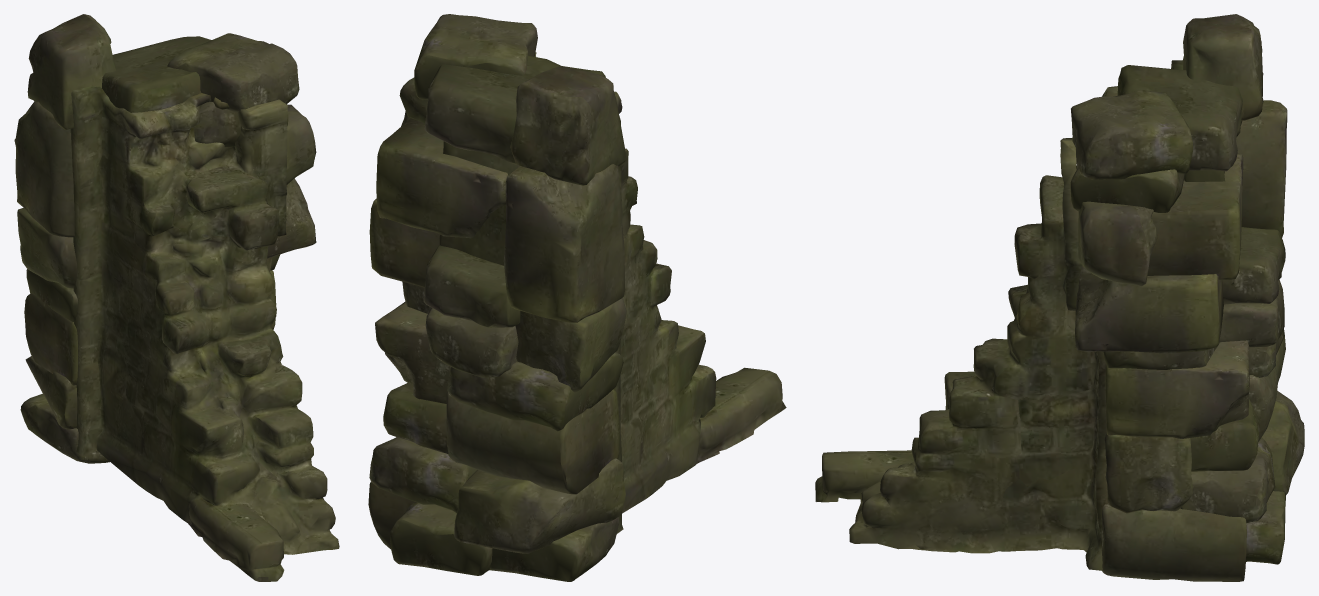
File: Ruins_BrokenWall-transformed.glb
The picture shows the model from 3 angles, left to right: view 1: azimuth 30°, elevation 25°; view 2: azimuth 150°, elevation 25°; view 3: azimuth 270°, elevation 25°; orthographic projection. The views are drawn at different scales.
Parts seen in each view (by area): view 1: Ruins_BrokenWall; view 2: Ruins_BrokenWall; view 3: Ruins_BrokenWall.
Boxes of the visible parts, x1=… form: Ruins_BrokenWall: x1=14, y1=14, x2=339, y2=581; Ruins_BrokenWall: x1=368, y1=14, x2=786, y2=581; Ruins_BrokenWall: x1=815, y1=14, x2=1304, y2=581.
Size of the model in its own units: 2.61 by 4.86 by 4.45.
2 materials, 2 textured.
